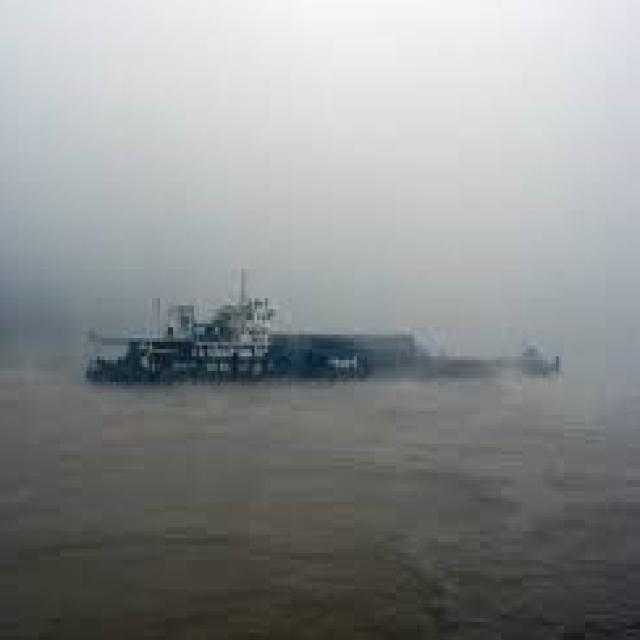fishing boat: (75, 269, 561, 399)
